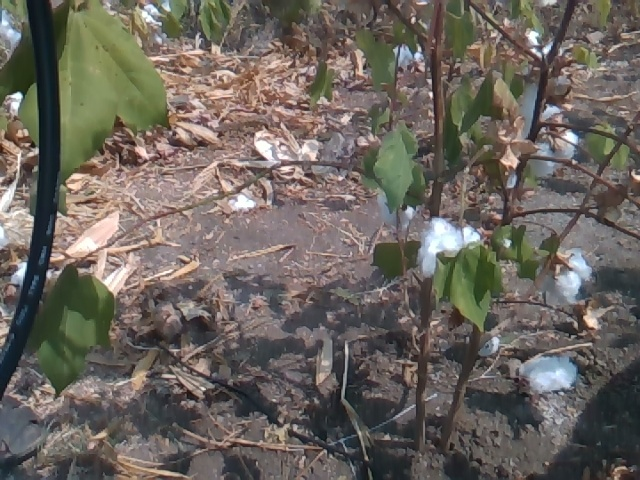cotton: (517, 83, 582, 178), (410, 214, 484, 276), (544, 247, 593, 307), (372, 183, 417, 239), (517, 356, 583, 394), (385, 38, 428, 68)
